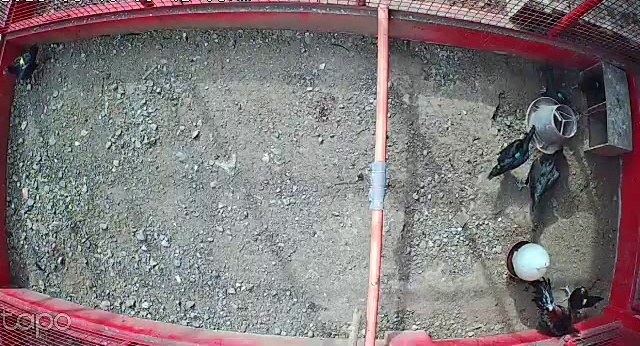Chicken: (512, 143, 573, 220), (485, 125, 540, 181), (532, 64, 580, 119), (2, 41, 49, 90), (558, 276, 606, 312)
Rooster: (521, 272, 586, 340)
Saddle_Color_Green: (514, 152, 520, 158)
Saddle_Color_Yellow: (19, 57, 26, 64)
